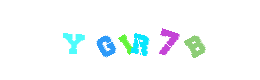7: (128, 0, 208, 80)
B: (133, 0, 213, 80)
G: (66, 0, 146, 80)
I: (89, 0, 169, 80)
R: (100, 0, 180, 80)
Y: (43, 0, 123, 80)
